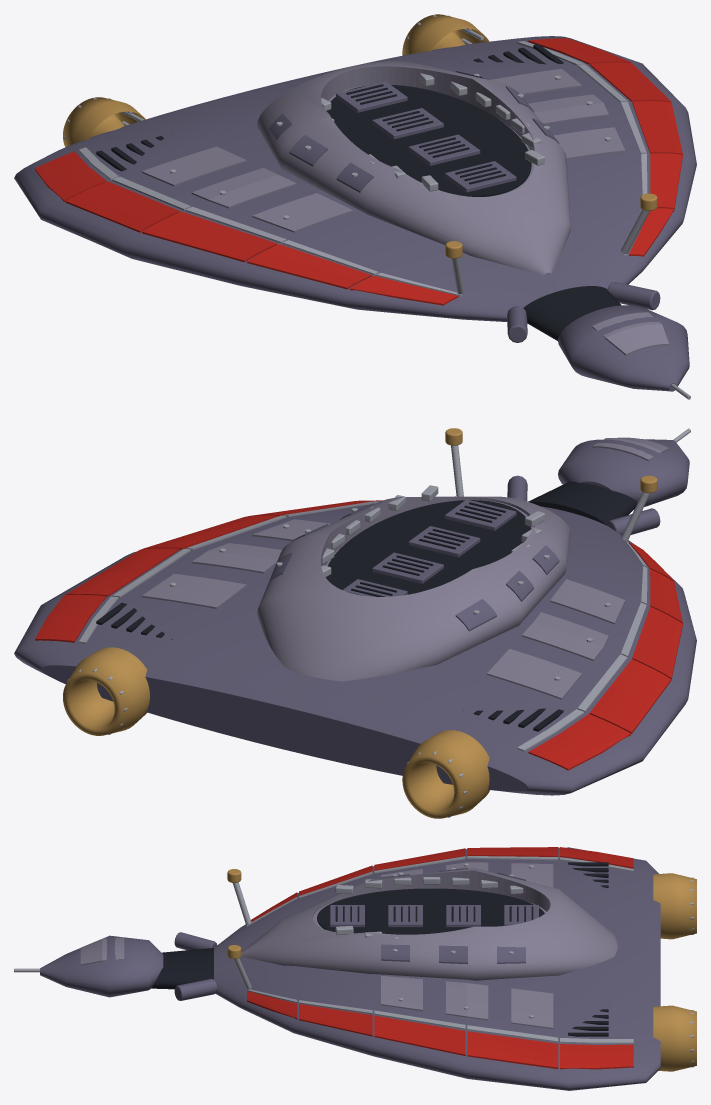
3 views of the same model, one above another, from view 1: azimuth 30°, elevation 25°; view 2: azimuth 150°, elevation 25°; view 3: azimuth 270°, elevation 25° (orthographic). The views are drawn at different scales.
Visible parts, largest first — view 1: Scout fan pressure hull, Scout raised oval crown, Scout recessed oval bay floor, Scout separate forward sensor pod, Scout conformal red shoulder belt.002, Scout conformal red shoulder belt.003, Scout recessed neck, Scout conformal red shoulder belt.001, Scout main drive -1, Scout main drive 1, Scout side equipment access cover.001, Scout side equipment access cover (+22 smaller); view 2: Scout fan pressure hull, Scout raised oval crown, Scout recessed oval bay floor, Scout main drive -1, Scout main drive 1, Scout separate forward sensor pod, Scout conformal red shoulder belt.003, Scout conformal red shoulder belt.004, Scout recessed neck, Scout side equipment access cover.002, Scout conformal red shoulder belt.002, Scout side equipment access cover.001 (+15 smaller); view 3: Scout fan pressure hull, Scout raised oval crown, Scout recessed oval bay floor, Scout separate forward sensor pod, Scout main drive 1, Scout main drive -1, Scout conformal red shoulder belt.008, Scout conformal red shoulder belt.007, Scout recessed neck, Scout conformal red shoulder belt.009, Scout side equipment access cover.005, Scout side equipment access cover.004 (+20 smaller).
Part boxes in pixels (x1,y1,x2,y2): Scout fan pressure hull: [14, 36, 696, 321]; Scout raised oval crown: [257, 61, 570, 275]; Scout recessed oval bay floor: [326, 85, 531, 196]; Scout separate forward sensor pod: [558, 305, 689, 391]; Scout conformal red shoulder belt.002: [142, 211, 277, 262]; Scout conformal red shoulder belt.003: [65, 181, 179, 232]; Scout recessed neck: [523, 286, 620, 340]; Scout conformal red shoulder belt.001: [247, 244, 371, 289]; Scout main drive -1: [63, 97, 146, 147]; Scout main drive 1: [402, 14, 489, 54]; Scout side equipment access cover.001: [191, 168, 296, 208]; Scout side equipment access cover: [252, 193, 353, 232]; Scout fan pressure hull: [14, 503, 696, 795]; Scout raised oval crown: [257, 496, 570, 681]; Scout recessed oval bay floor: [326, 500, 531, 594]; Scout main drive -1: [402, 730, 489, 818]; Scout main drive 1: [63, 647, 149, 735]; Scout separate forward sensor pod: [558, 439, 689, 509]; Scout conformal red shoulder belt.003: [589, 659, 671, 733]; Scout conformal red shoulder belt.004: [528, 714, 630, 770]; Scout recessed neck: [528, 481, 637, 526]; Scout side equipment access cover.002: [487, 648, 582, 699]; Scout conformal red shoulder belt.002: [632, 606, 682, 679]; Scout side equipment access cover.001: [522, 612, 608, 660]; Scout fan pressure hull: [214, 847, 660, 1090]; Scout raised oval crown: [241, 868, 617, 980]; Scout recessed oval bay floor: [317, 888, 544, 934]; Scout separate forward sensor pod: [40, 935, 163, 997]; Scout main drive 1: [653, 1005, 696, 1071]; Scout main drive -1: [653, 873, 696, 939]; Scout conformal red shoulder belt.008: [467, 1031, 558, 1068]; Scout conformal red shoulder belt.007: [374, 1015, 465, 1055]; Scout recessed neck: [151, 948, 213, 989]; Scout conformal red shoulder belt.009: [560, 1044, 633, 1069]; Scout side equipment access cover.005: [511, 988, 553, 1028]; Scout side equipment access cover.004: [446, 981, 488, 1020].
Bounding box in the file's own units: 3.86 × 0.791 × 4.71.
